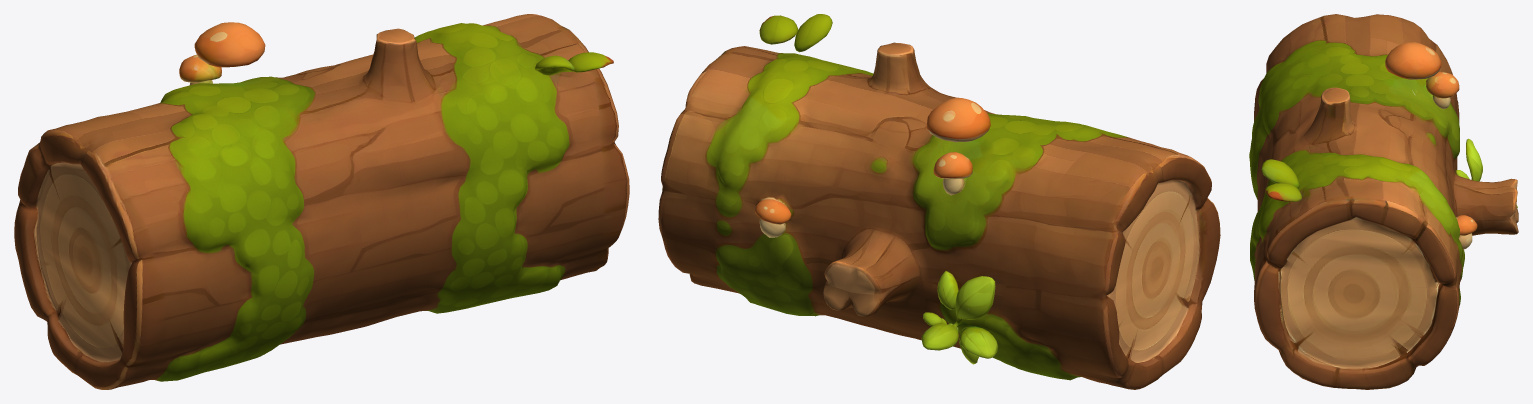
File: trunk.glb
The picture shows the model from 3 angles, left to right: view 1: azimuth 30°, elevation 25°; view 2: azimuth 150°, elevation 25°; view 3: azimuth 270°, elevation 25°; orthographic projection. The views are drawn at different scales.
Parts seen in each view (by area): view 1: Mesh_0; view 2: Mesh_0; view 3: Mesh_0.
Boxes of the visible parts, x1,y1,x2,y2 form: Mesh_0: (14, 14, 629, 389); Mesh_0: (658, 14, 1220, 389); Mesh_0: (1249, 14, 1518, 389).
Size of the model in its own units: 0.2156 by 0.12 by 0.1262.
1 material, 1 textured.
